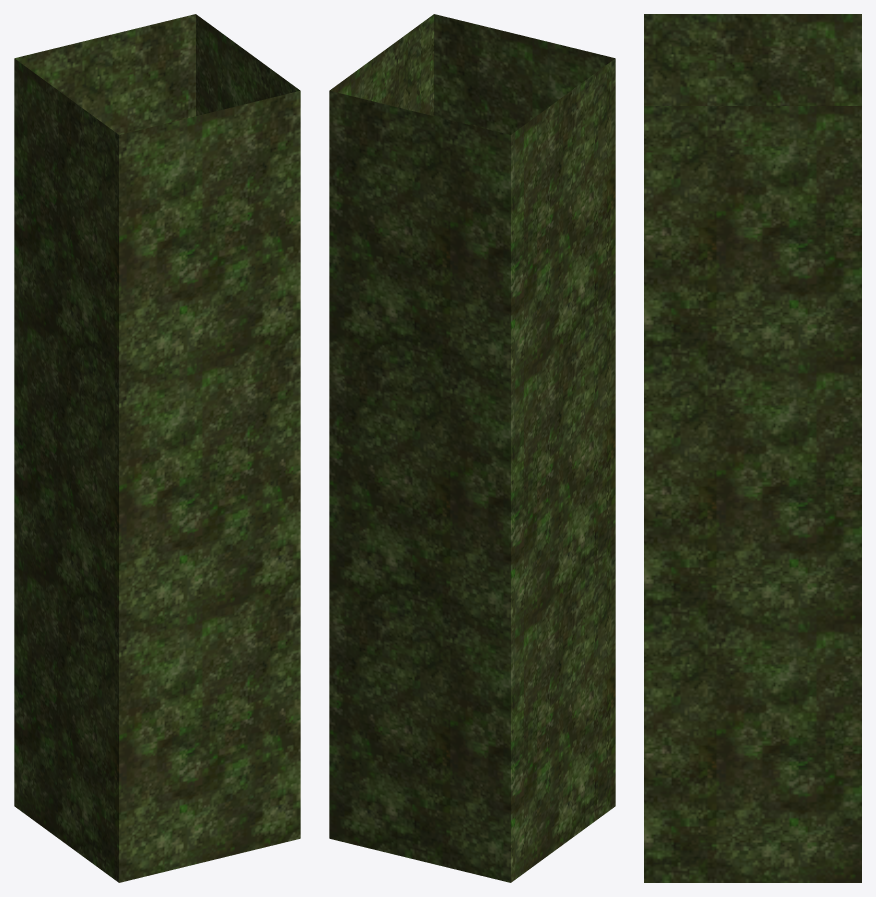
Rendered from OVERHILL_A_01_LINE146.fbx.
3 renders of one model, left to right at view 1: azimuth 30°, elevation 25°; view 2: azimuth 150°, elevation 25°; view 3: azimuth 270°, elevation 25°, orthographic. The views are drawn at different scales.
Visible parts, largest first — view 1: OVERHILL_A_01_LINE146; view 2: OVERHILL_A_01_LINE146; view 3: OVERHILL_A_01_LINE146.
Boxes of the visible parts, x1=… form: OVERHILL_A_01_LINE146: x1=14, y1=14, x2=300, y2=882; OVERHILL_A_01_LINE146: x1=329, y1=14, x2=615, y2=882; OVERHILL_A_01_LINE146: x1=644, y1=14, x2=861, y2=882.
Size of the model in its own units: 17889 by 70450 by 17889.
Materials: 1 (1 with a texture image).
